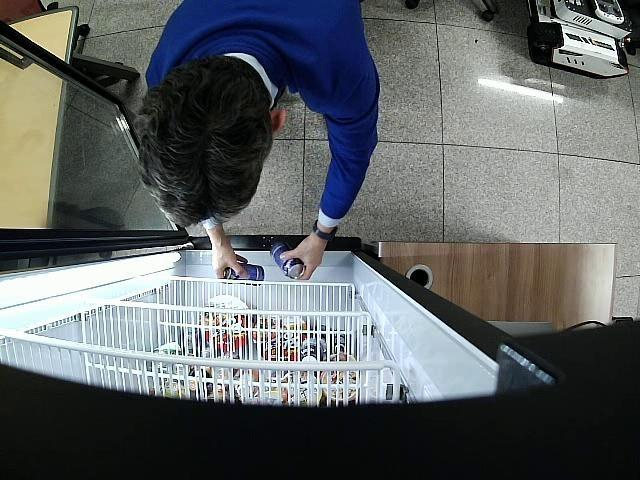14_welchsGrape: (270, 241, 304, 278), (223, 263, 264, 286)
